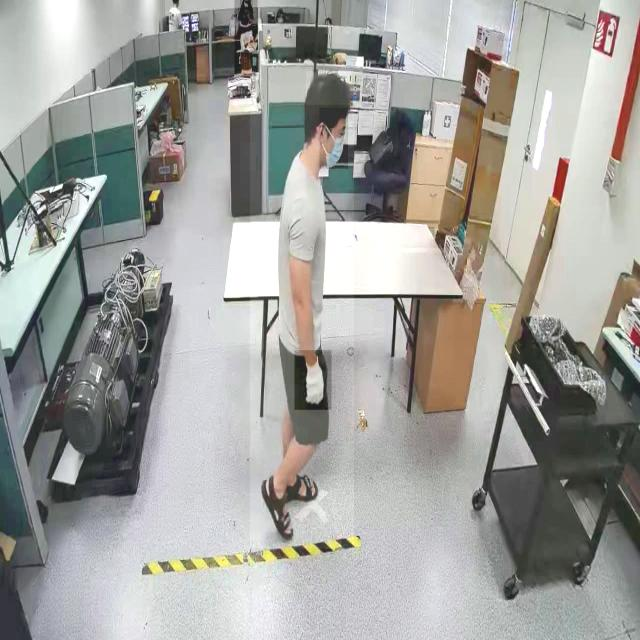face_mask: (320, 107, 348, 169), (240, 0, 252, 11)
hand_glove: (294, 350, 332, 411)
head_nohelmet: (306, 71, 350, 106)
person: (250, 59, 354, 550), (235, 0, 258, 77)
